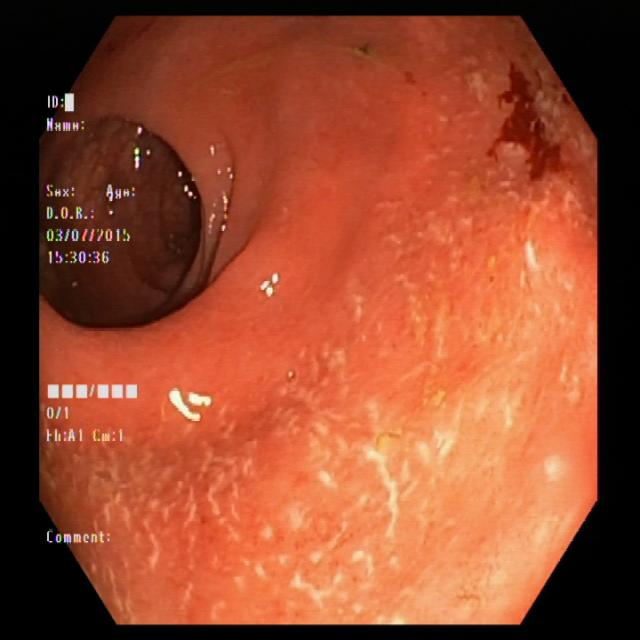ulcerative-colities: (478, 52, 600, 215)
